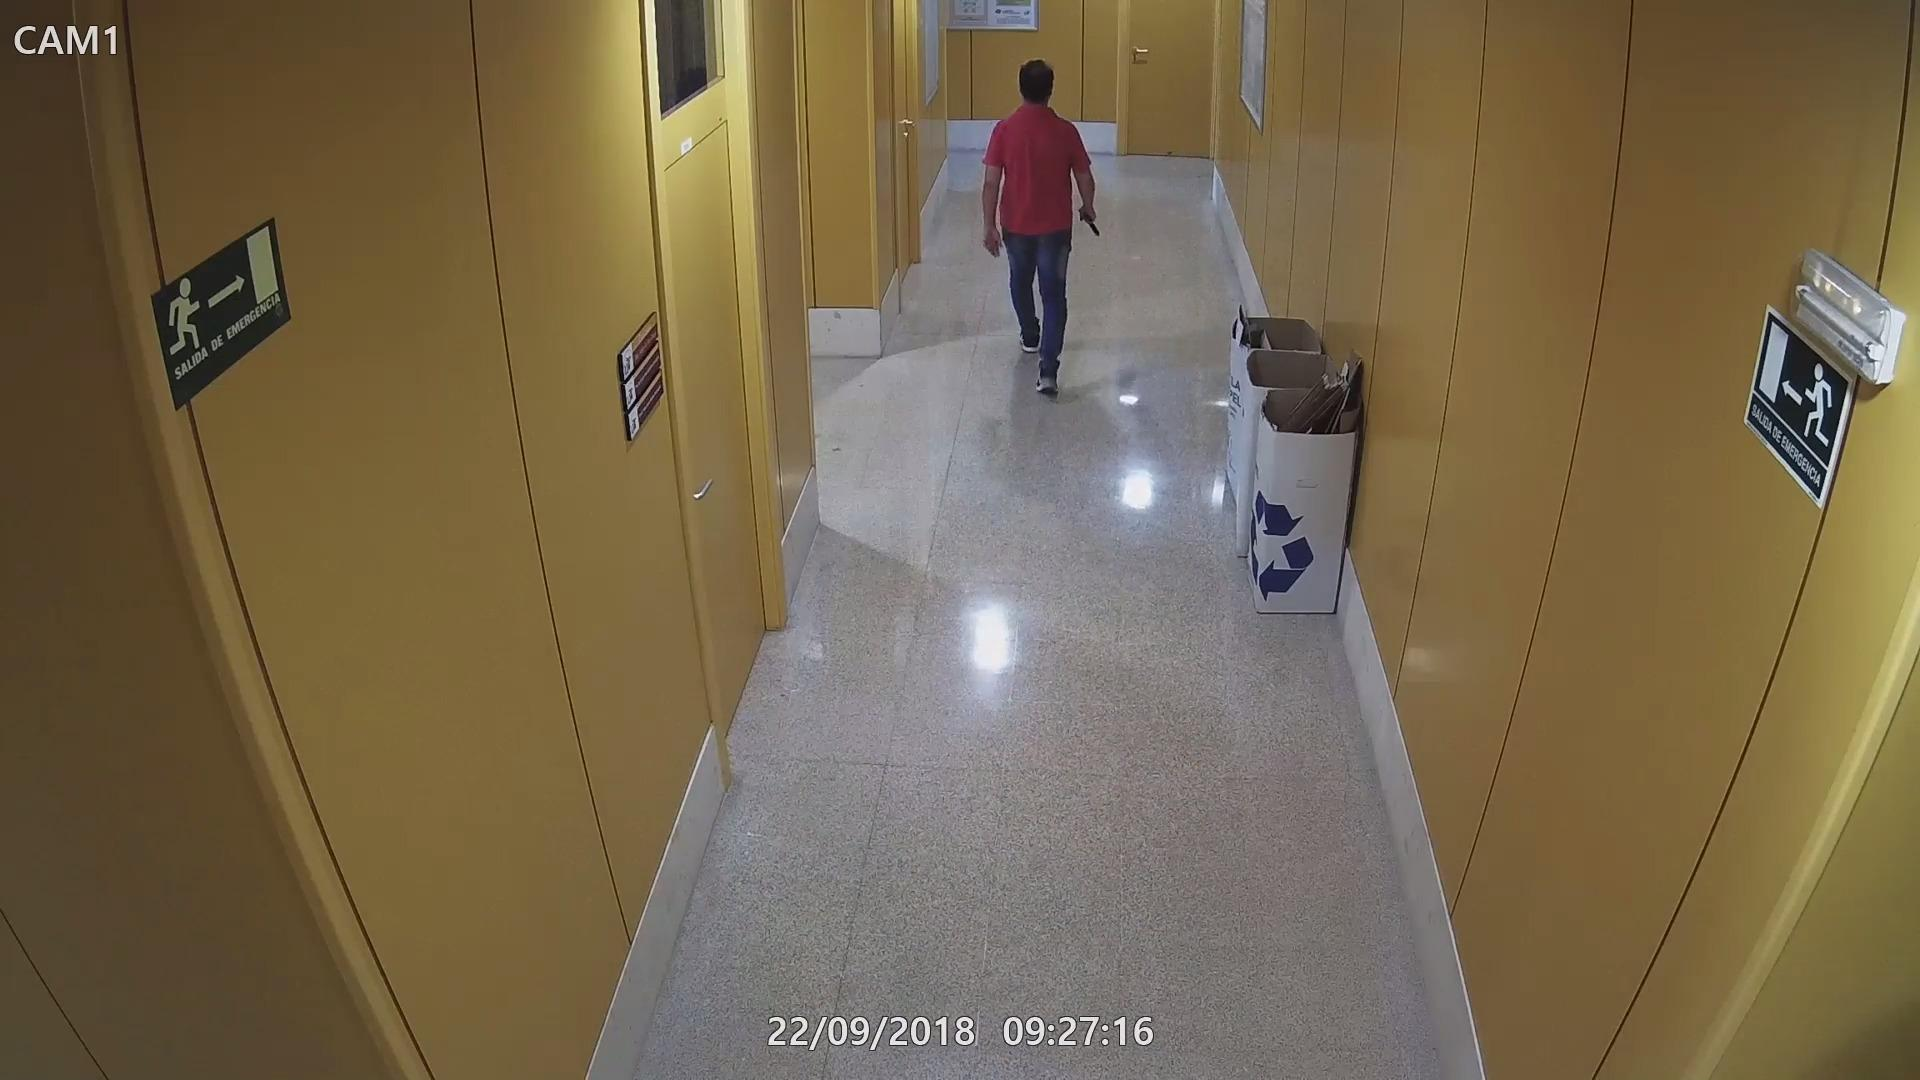Handgun: (1075, 202, 1102, 235)
